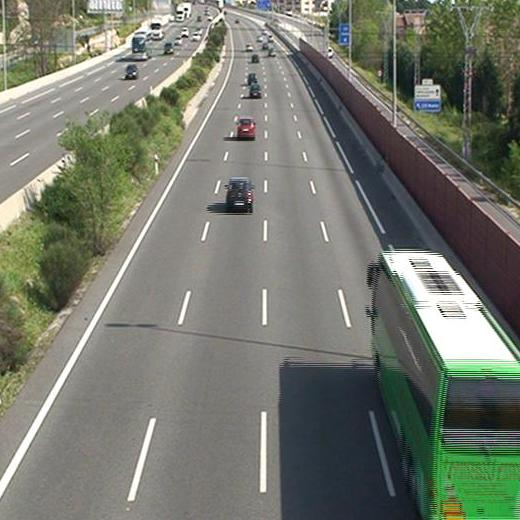bus: (372, 250, 520, 519)
car: (226, 177, 252, 208), (236, 118, 255, 138), (249, 84, 261, 99), (247, 72, 258, 82), (250, 53, 260, 63)
